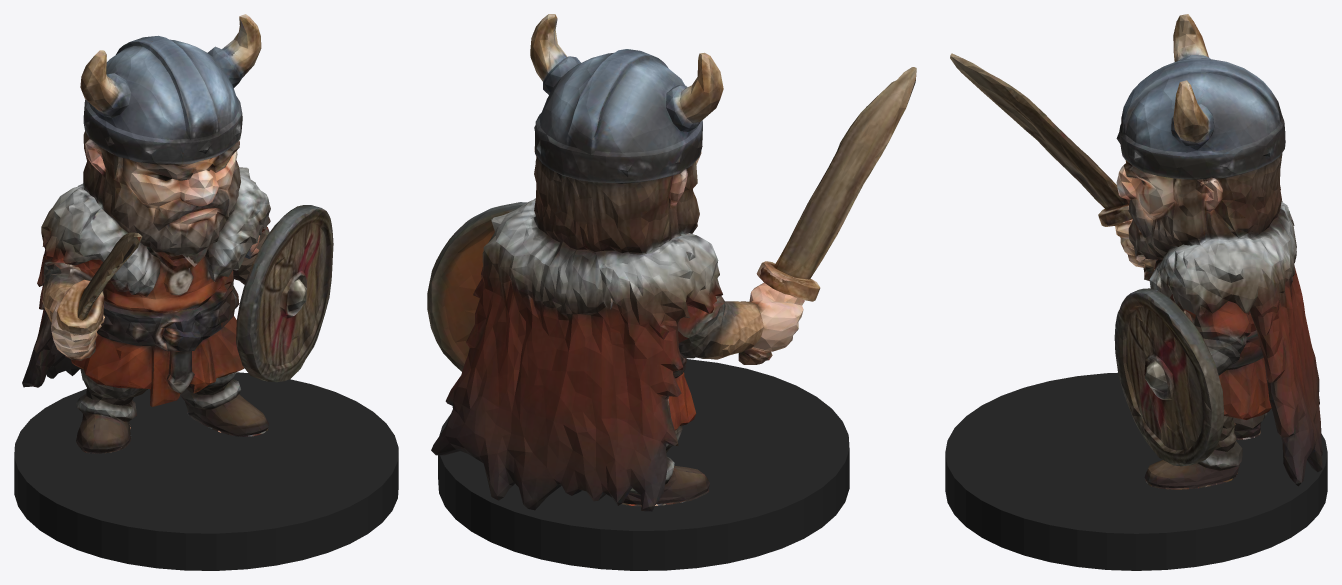
The model's file is darkoath-marauder.glb.
The picture shows the model from 3 angles, left to right: view 1: azimuth 30°, elevation 25°; view 2: azimuth 150°, elevation 25°; view 3: azimuth 270°, elevation 25°; orthographic projection. The views are drawn at different scales.
Parts seen in each view (by area): view 1: figure, base; view 2: figure, base; view 3: figure, base.
Boxes of the visible parts, left/top/right/bottom form: figure: left=22, top=14, right=333, bottom=453; base: left=14, top=372, right=398, bottom=570; figure: left=427, top=14, right=916, bottom=511; base: left=438, top=359, right=849, bottom=570; figure: left=950, top=14, right=1322, bottom=489; base: left=945, top=372, right=1327, bottom=570.
Bounding box in the file's own units: 1.12 × 1.42 × 1.12.
Materials: 2 (1 with a texture image).
